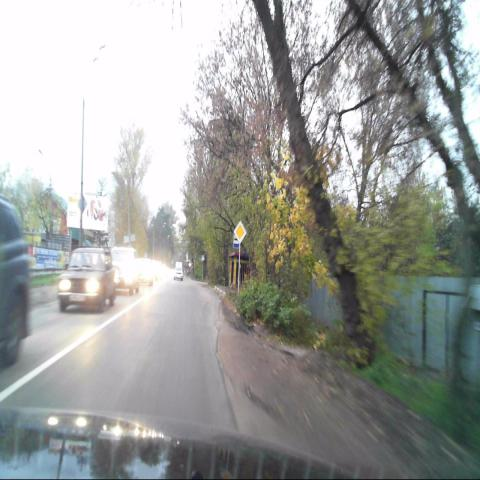2_1: (234, 220, 246, 244)
